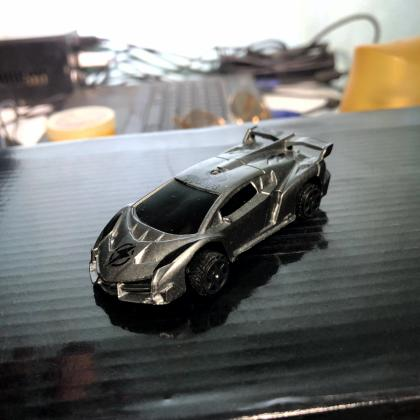Car: (84, 122, 340, 314)
